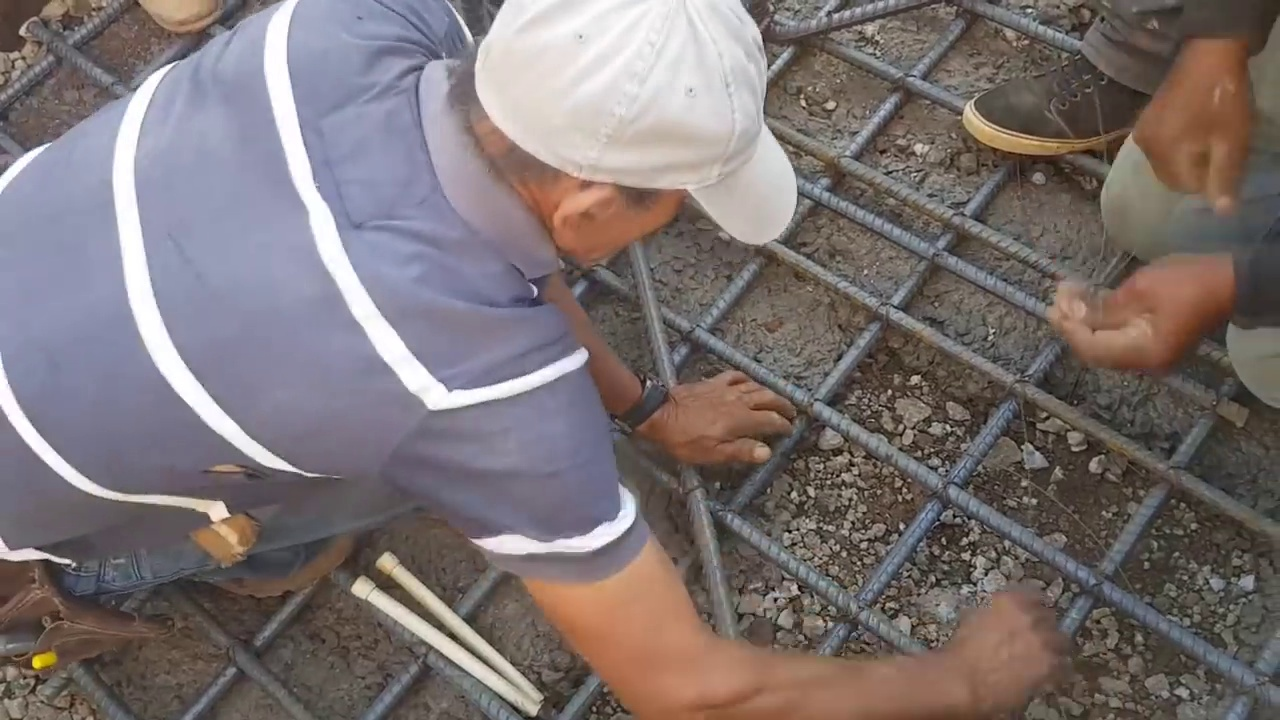helmet-off: (456, 0, 803, 231)
person: (20, 2, 1082, 719), (1058, 0, 1251, 424)
